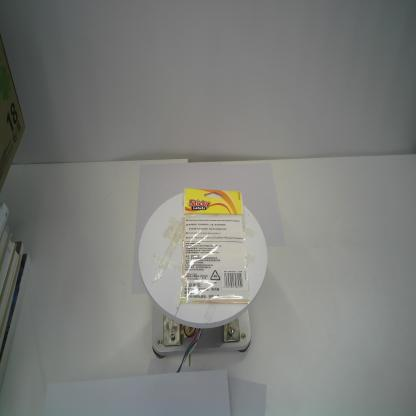Stationery: (179, 187, 251, 306)
